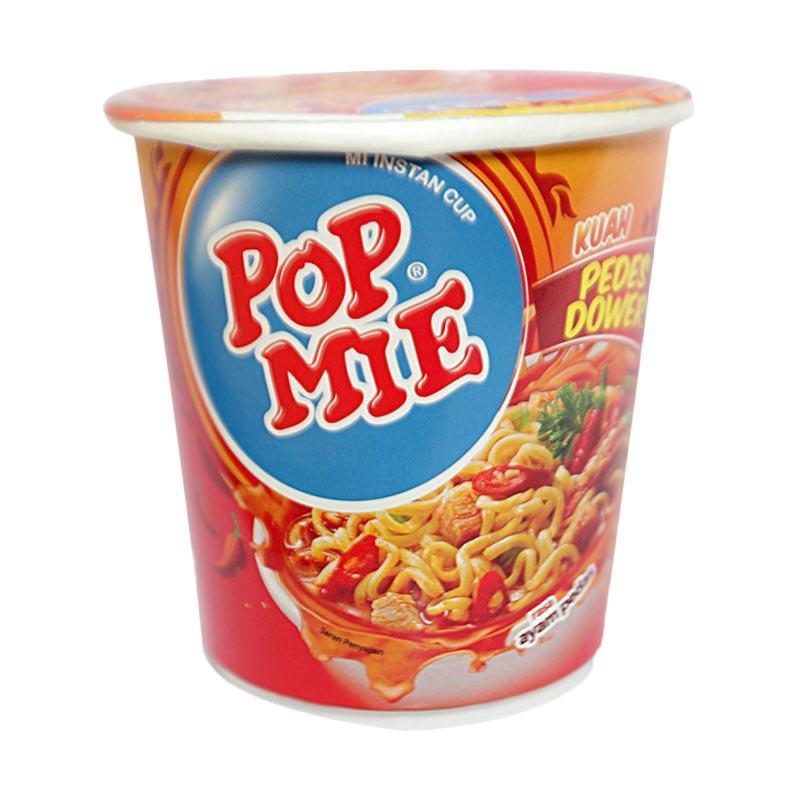PS: (104, 65, 695, 723)
